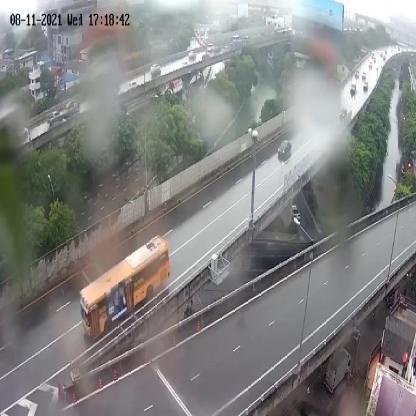bus: (80, 232, 170, 346)
car: (275, 136, 292, 162)
